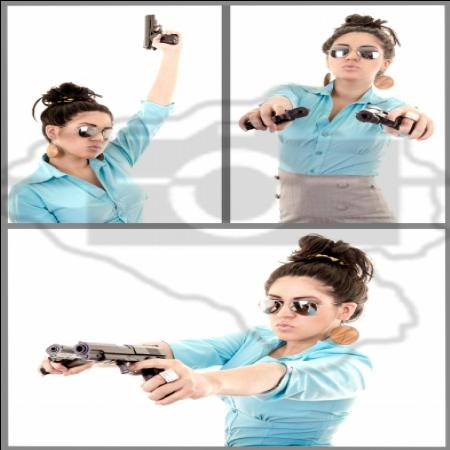Pistol: (74, 340, 184, 394), (29, 338, 111, 376), (349, 100, 427, 138), (236, 100, 308, 130), (140, 11, 184, 50)
